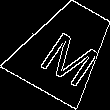M_NE: (29, 16, 100, 83)
